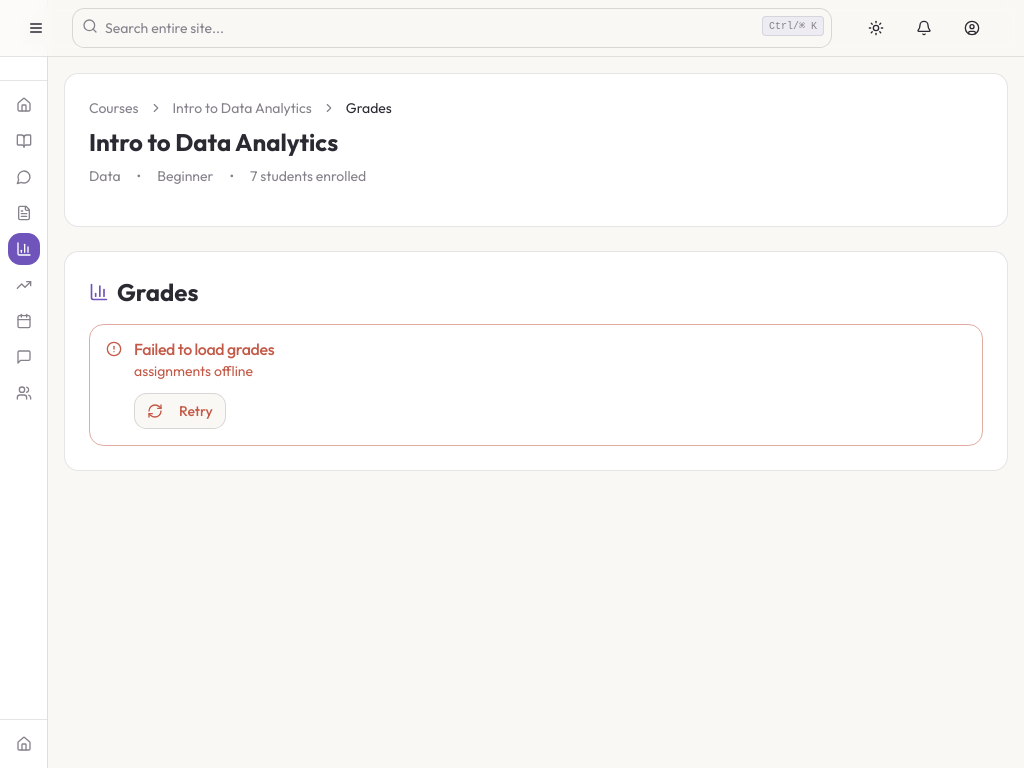
it: CourseDetail › shows an error with retry — not the empty state — when the grades fetch fails
Expected: the heading "Failed to load grades" is shown, [134,339,274,359]
Expected: the text "assignments offline" is shown, [134,362,253,380]
Click the button "Retry" at (180, 411), box [134,393,226,429]
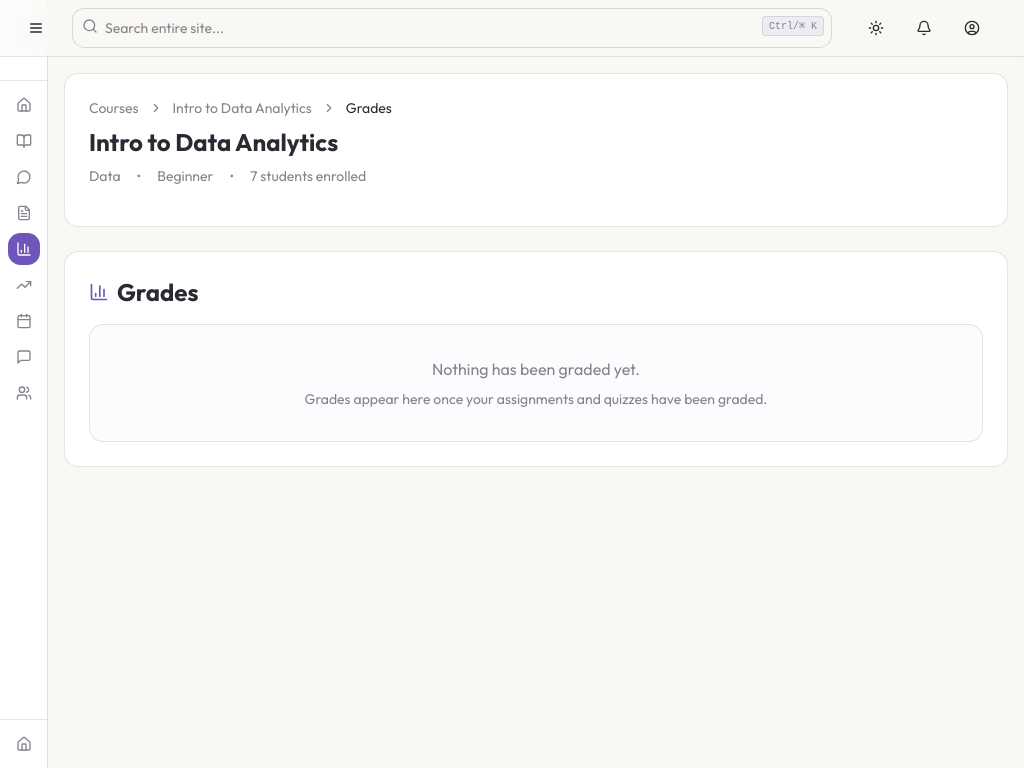
Now the text "Nothing has been graded yet." is shown, box [432,359,640,379]
Now the heading "Failed to load grades" is gone
